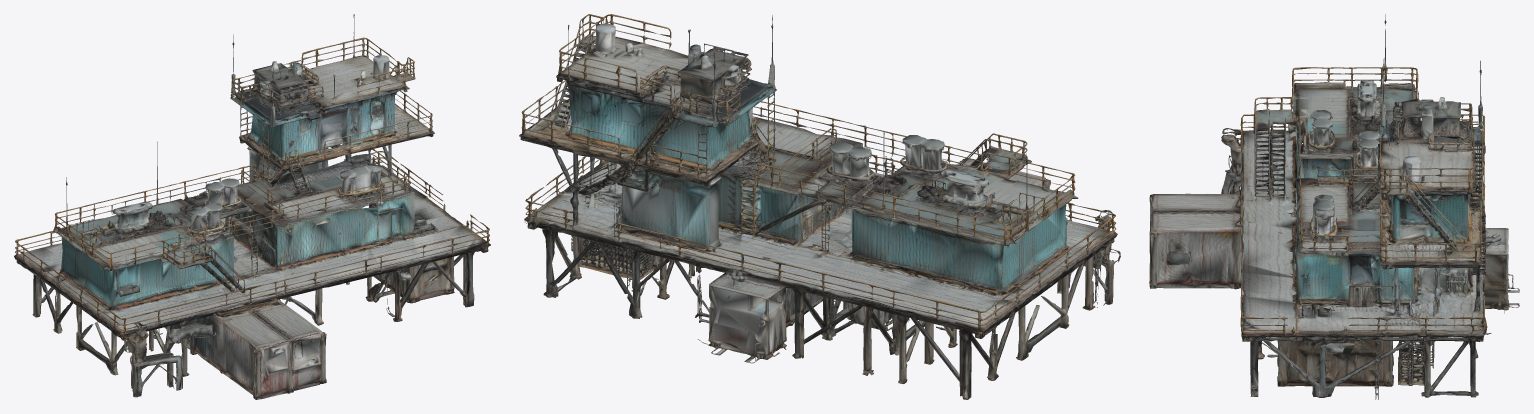
The model's file is fuel_depot.glb.
The picture shows the model from 3 angles, left to right: view 1: azimuth 30°, elevation 25°; view 2: azimuth 150°, elevation 25°; view 3: azimuth 270°, elevation 25°; orthographic projection. The views are drawn at different scales.
Visible parts, largest first — view 1: fuel_depot; view 2: fuel_depot; view 3: fuel_depot.
Boxes of the visible parts, x1,y1,x2,y2 form: fuel_depot: (14,14,490,399); fuel_depot: (519,14,1120,399); fuel_depot: (1149,14,1519,399).
Size of the model in its own units: 1.9 by 1.12 by 1.44.
1 material, 1 textured.
